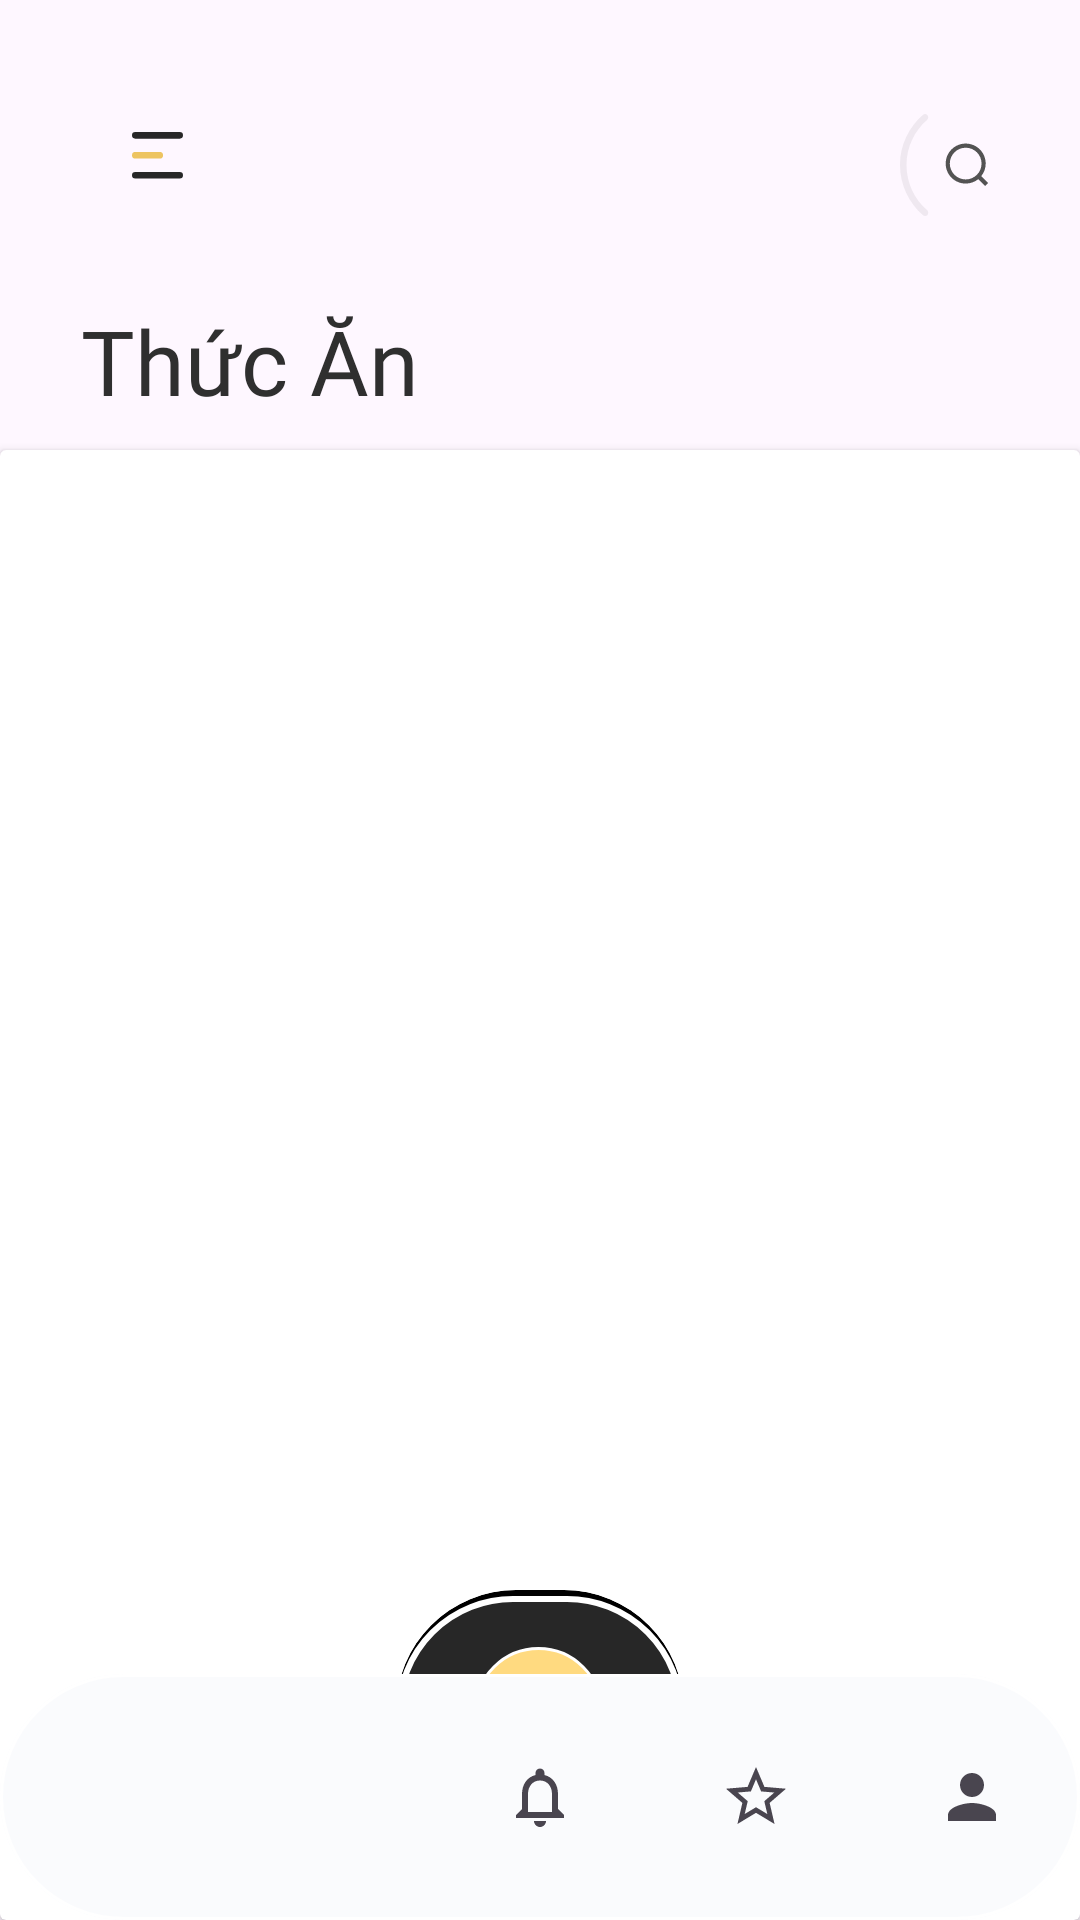

Named icons in this screenshot (1080 x 1920) and their centers, point (x, y):
iconseach: point (966, 164)
